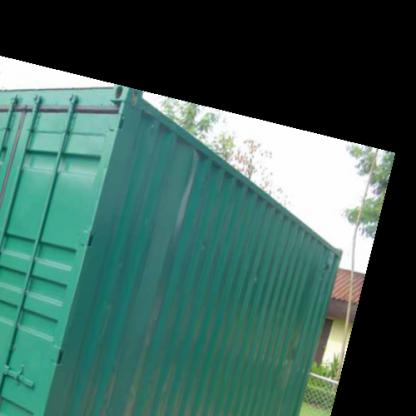Damage: (164, 148, 212, 261), (106, 346, 178, 415), (245, 335, 303, 389)
